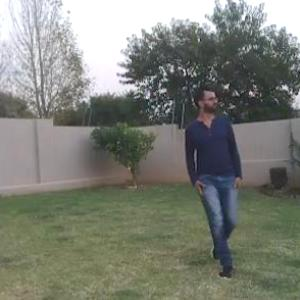follow: (183, 77, 250, 274)
